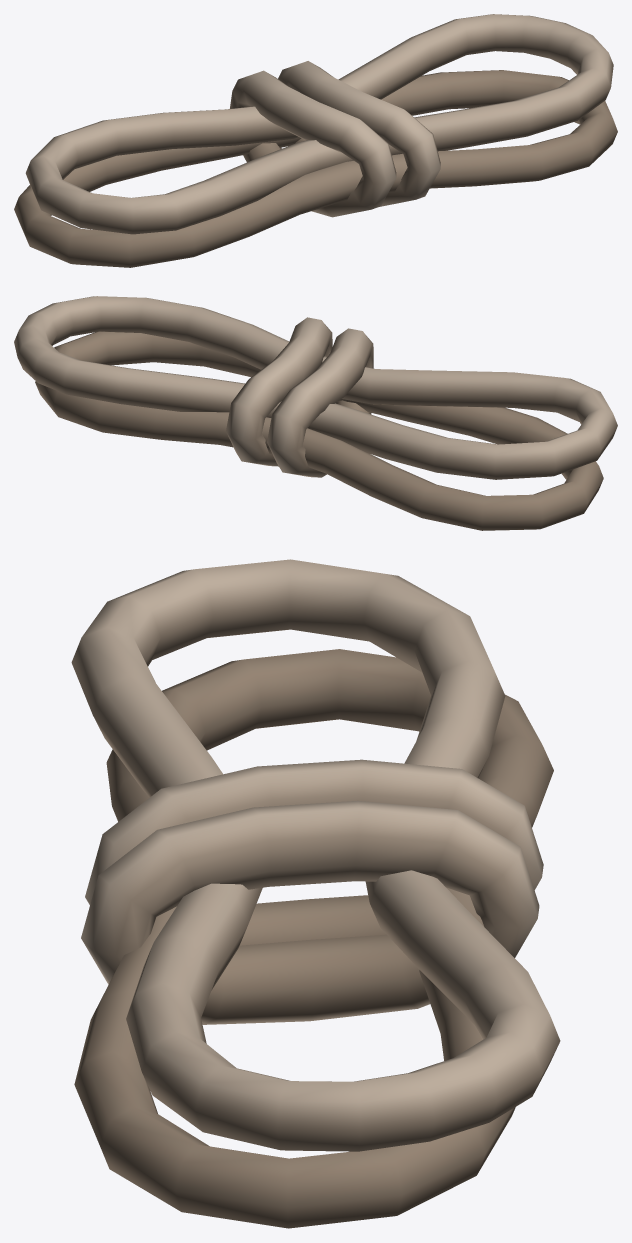
The model's file is prop_rope.glb.
3 views of the same model, one above another, from view 1: azimuth 30°, elevation 25°; view 2: azimuth 150°, elevation 25°; view 3: azimuth 270°, elevation 25° (orthographic). The views are drawn at different scales.
Parts seen in each view (by area): view 1: rope_bundle_A; view 2: rope_bundle_A; view 3: rope_bundle_A.
Part boxes in pixels (x1,y1,x2,y2): rope_bundle_A: [14, 14, 617, 267]; rope_bundle_A: [14, 296, 617, 530]; rope_bundle_A: [71, 559, 560, 1228].
Size of the model in its own units: 1.39 by 0.2519 by 0.527.
Materials: 1 (1 with a texture image).
